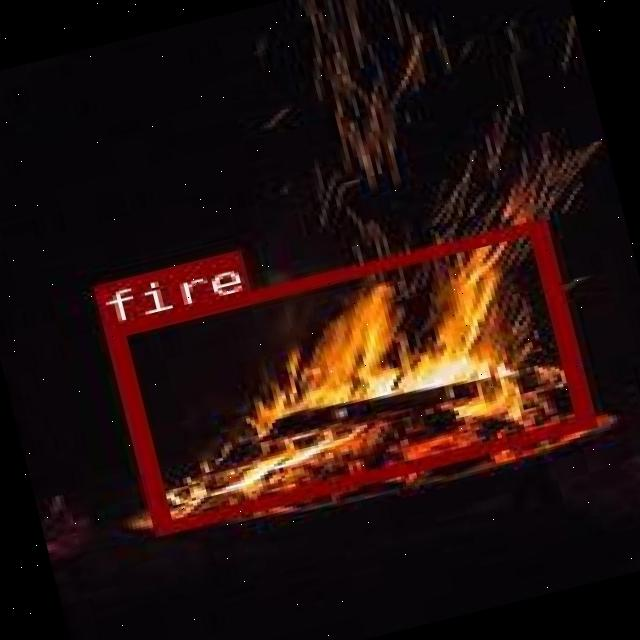fire: (104, 217, 592, 534)
